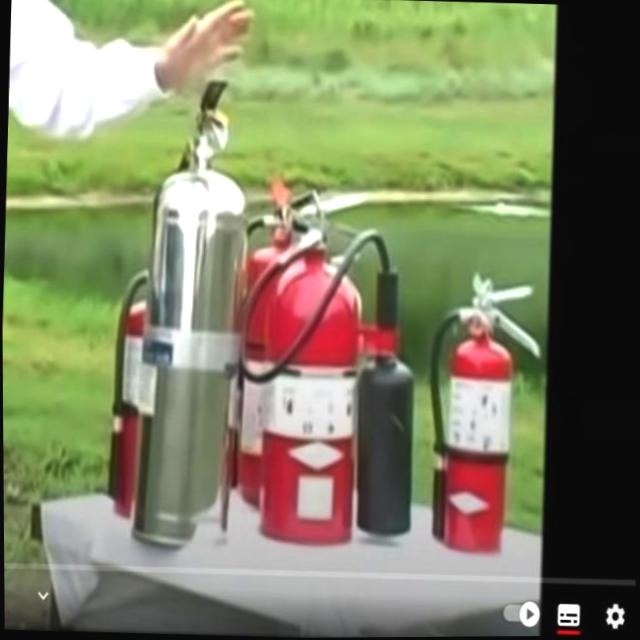FireExtinguisher: (228, 178, 425, 557), (117, 75, 255, 558), (419, 272, 548, 556), (101, 247, 208, 520)
